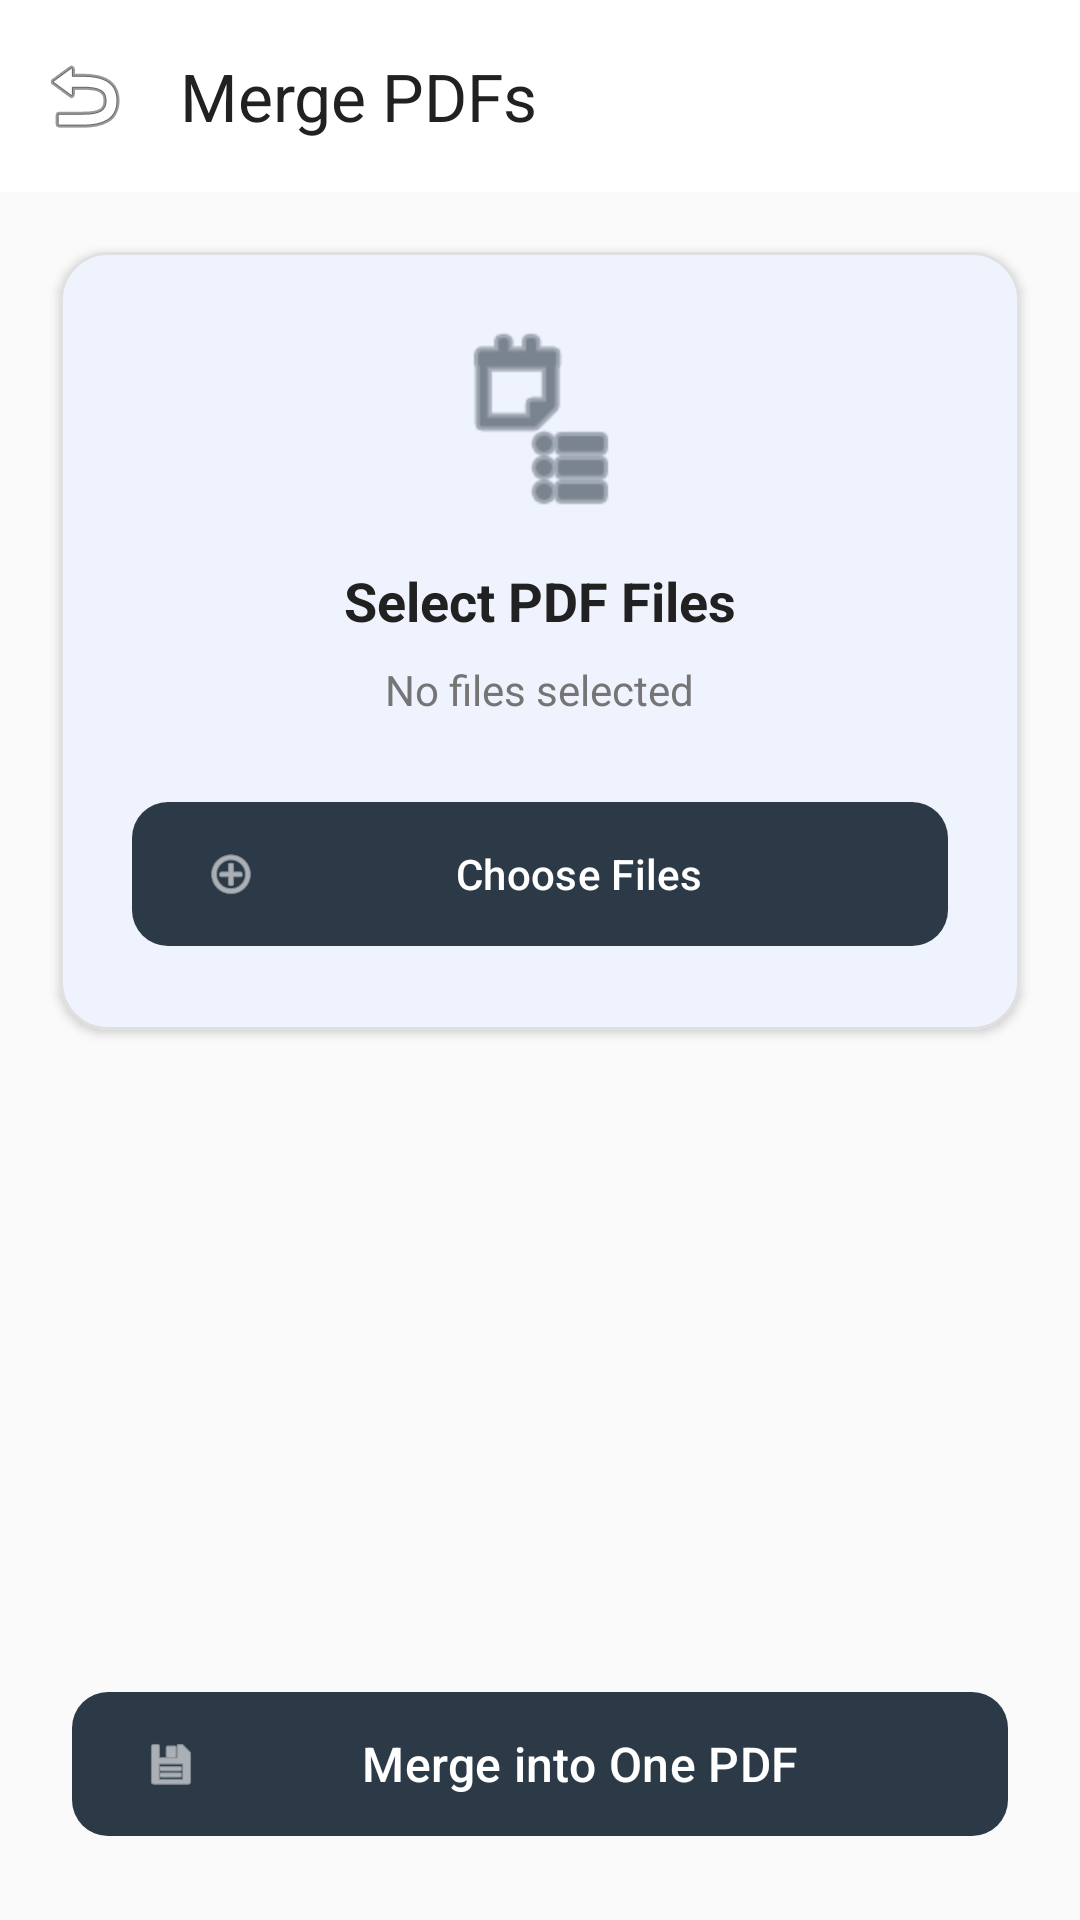

Locate icon controls on the screen. Image size 1080 x 1920, boxes as (x1, y1, x2, y2).
agenda: (474, 334, 608, 504)
